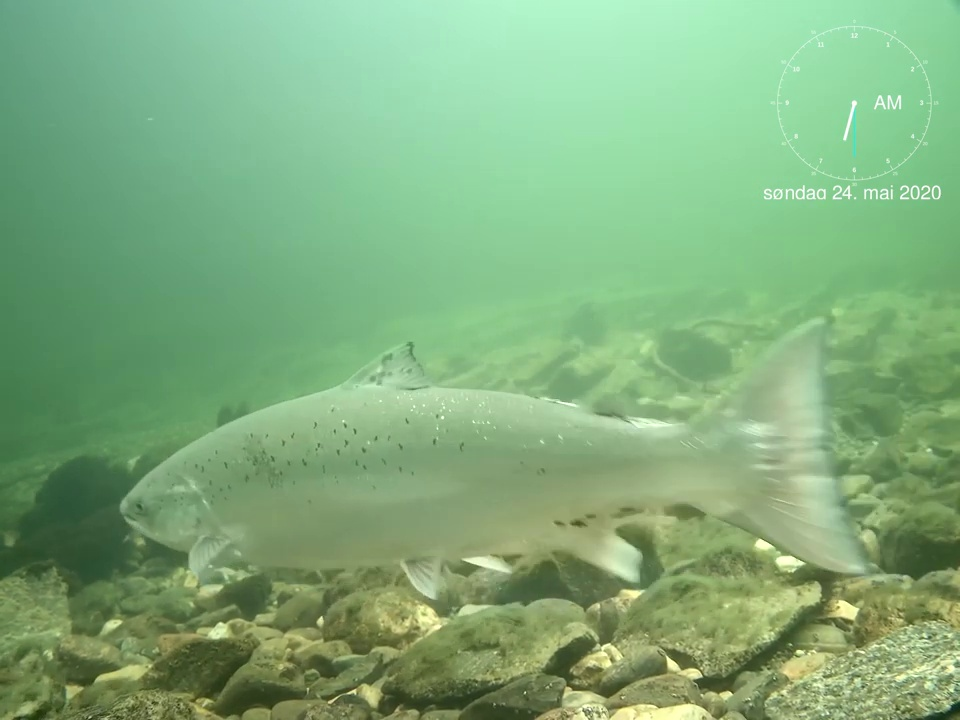salmon: (117, 314, 874, 605)
